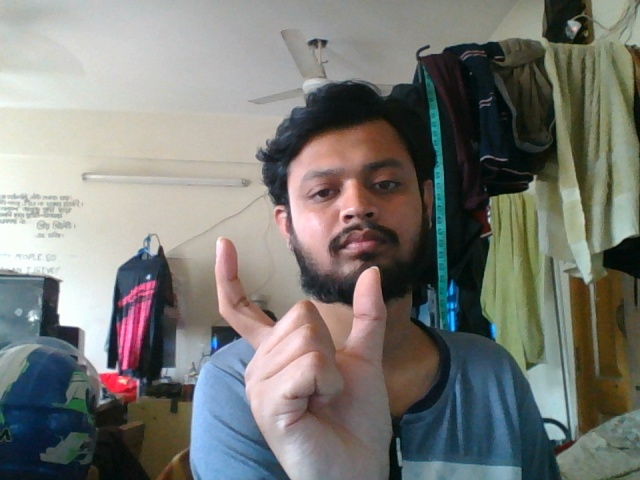chandrobindu: (211, 231, 398, 480)
